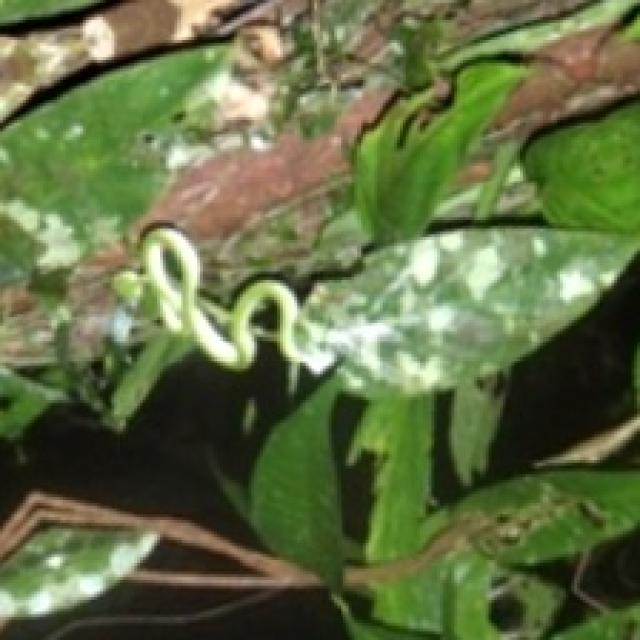north ph temple pitviper: (140, 226, 300, 366)
